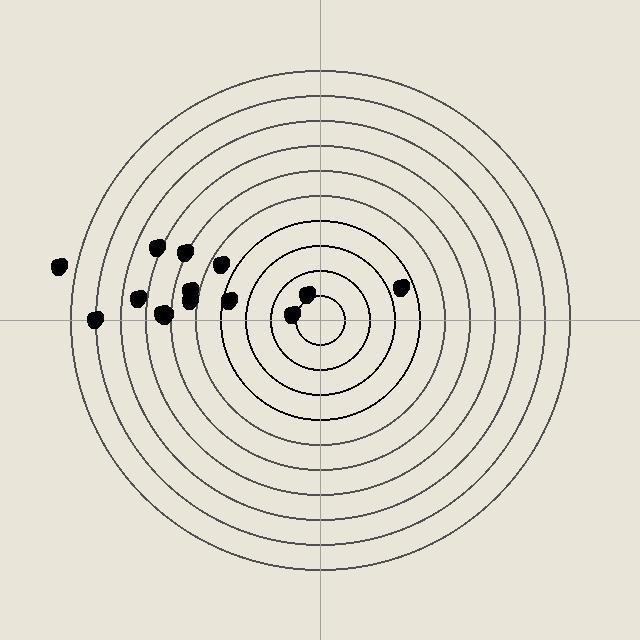horizontal_scatter: (146, 237, 166, 257), (210, 254, 230, 274), (151, 303, 171, 323), (218, 290, 238, 310), (84, 309, 104, 329), (154, 305, 174, 325), (281, 304, 301, 324), (179, 290, 199, 310), (296, 284, 316, 304), (127, 288, 147, 308), (179, 280, 199, 300), (174, 242, 194, 262), (48, 256, 68, 276), (390, 277, 410, 297)
